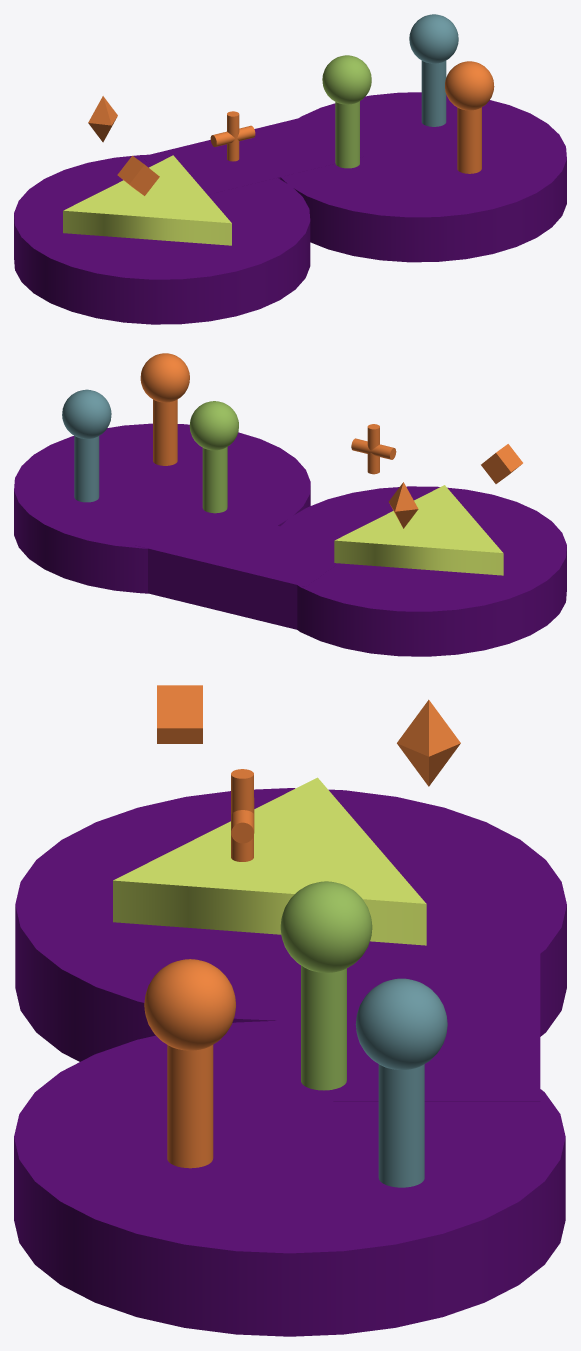
Rendered from platform3D.glb.
3 renders of one model, top to bottom at view 1: azimuth 30°, elevation 25°; view 2: azimuth 150°, elevation 25°; view 3: azimuth 270°, elevation 25°, orthographic. The views are drawn at different scales.
Visible parts, largest first — view 1: Cylinder (×8), Box (×2), Sphere (×3), Octahedron; view 2: Cylinder (×8), Box (×2), Sphere (×3), Octahedron; view 3: Cylinder (×7), Box (×2), Sphere (×3), Octahedron.
Boxes of the visible parts, bbox=[...] form: Cylinder (×8): bbox=[14, 60, 566, 324]; Box (×2): bbox=[117, 115, 367, 195]; Sphere (×3): bbox=[322, 14, 494, 110]; Octahedron: bbox=[88, 96, 117, 142]; Cylinder (×8): bbox=[14, 399, 566, 656]; Box (×2): bbox=[134, 444, 522, 629]; Sphere (×3): bbox=[62, 353, 238, 450]; Octahedron: bbox=[388, 482, 418, 528]; Cylinder (×7): bbox=[14, 769, 566, 1336]; Box (×2): bbox=[157, 685, 540, 1101]; Sphere (×3): bbox=[144, 881, 447, 1069]; Octahedron: bbox=[397, 699, 460, 786].
Bounding box in the file's own units: 23.95 × 6.68 × 12.03.
